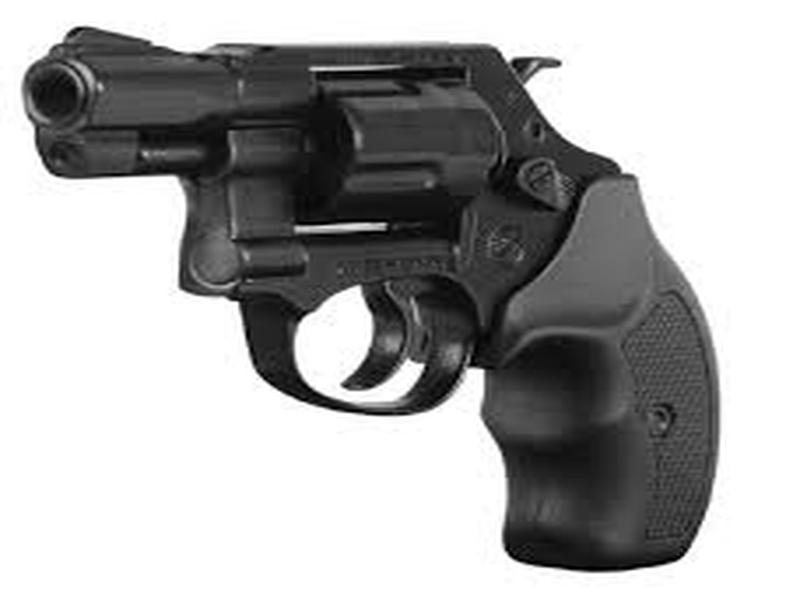Revolver: (29, 11, 729, 453)
